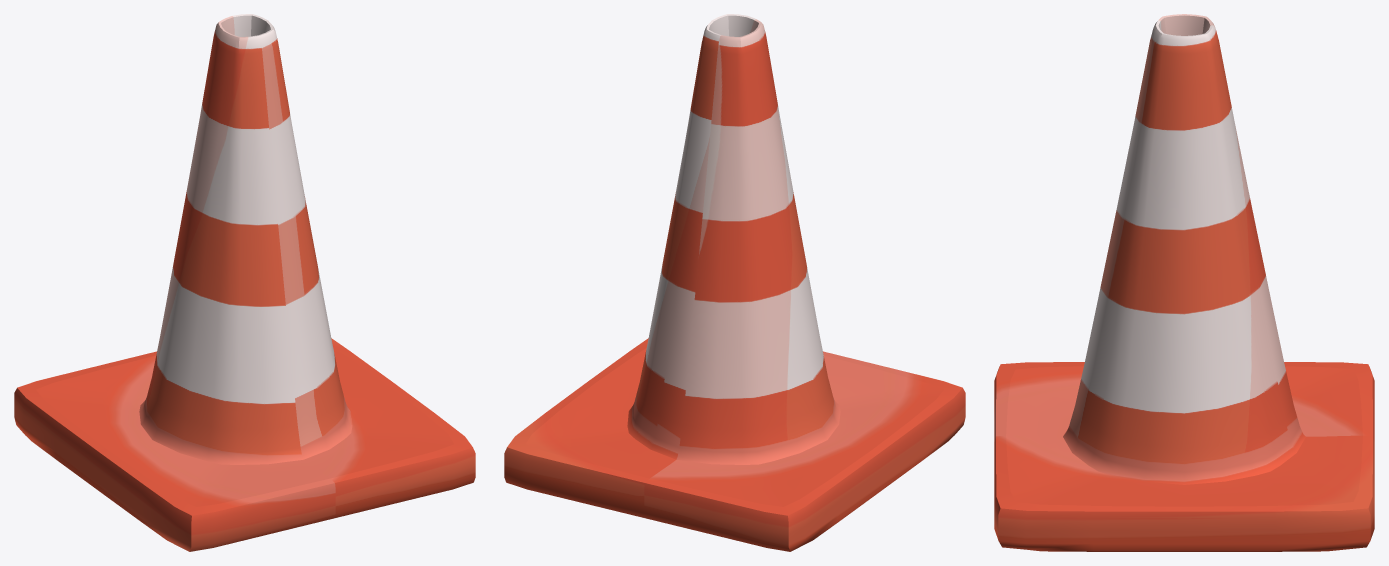
The model's file is Cono.fbx.
The picture shows the model from 3 angles, left to right: view 1: azimuth 30°, elevation 25°; view 2: azimuth 150°, elevation 25°; view 3: azimuth 270°, elevation 25°; orthographic projection. The views are drawn at different scales.
Parts seen in each view (by area): view 1: Cono; view 2: Cono; view 3: Cono.
Boxes of the visible parts, left/top/right/bottom form: Cono: left=14, top=14, right=475, bottom=551; Cono: left=504, top=14, right=965, bottom=551; Cono: left=994, top=14, right=1374, bottom=551.
Bounding box in the file's own units: 144 × 201 × 153.
